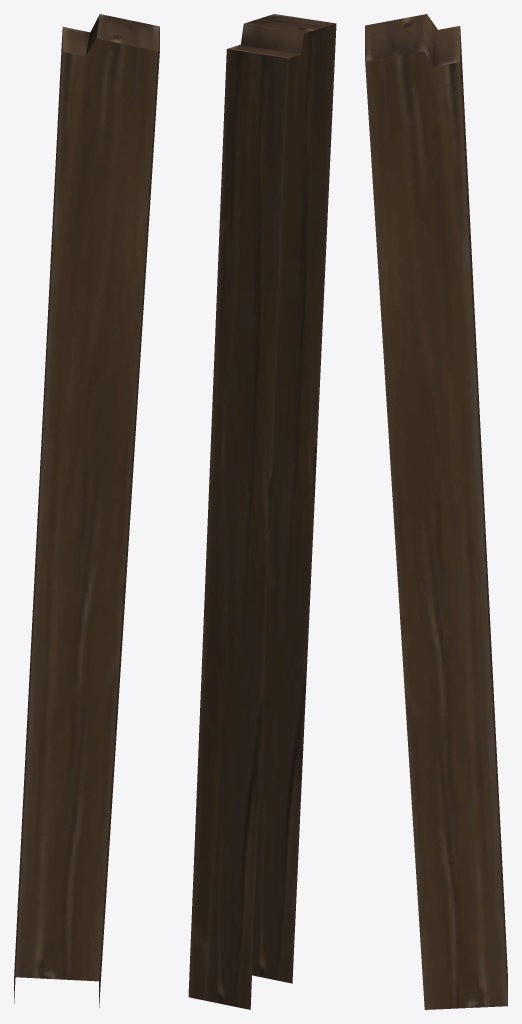
Rendered from 6002_Item_muban_8.FBX.
3 renders of one model, left to right at view 1: azimuth 90°, elevation 25°; view 2: azimuth 150°, elevation 25°; view 3: azimuth 270°, elevation 25°, orthographic. The views are drawn at different scales.
Parts seen in each view (by area): view 1: 6002_Item_muban_8; view 2: 6002_Item_muban_8; view 3: 6002_Item_muban_8.
Part boxes in pixels (x1,y1,x2,y2): 6002_Item_muban_8: [14, 14, 159, 1007]; 6002_Item_muban_8: [188, 14, 336, 1009]; 6002_Item_muban_8: [365, 14, 507, 1009].
Size of the model in its own units: 36.65 by 433 by 58.39.
